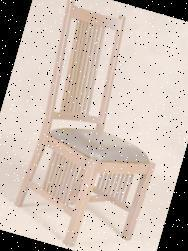Silla: (4, 1, 187, 250)
